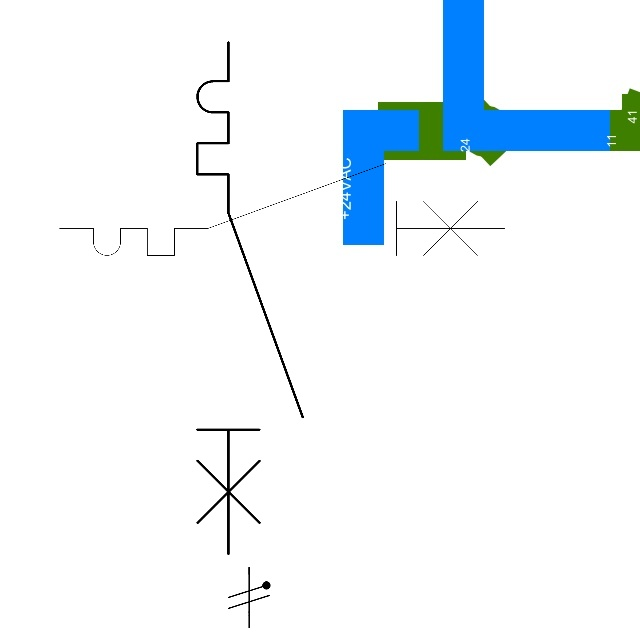interruptor_termomagnetico: (184, 29, 315, 566), (48, 152, 516, 267)
